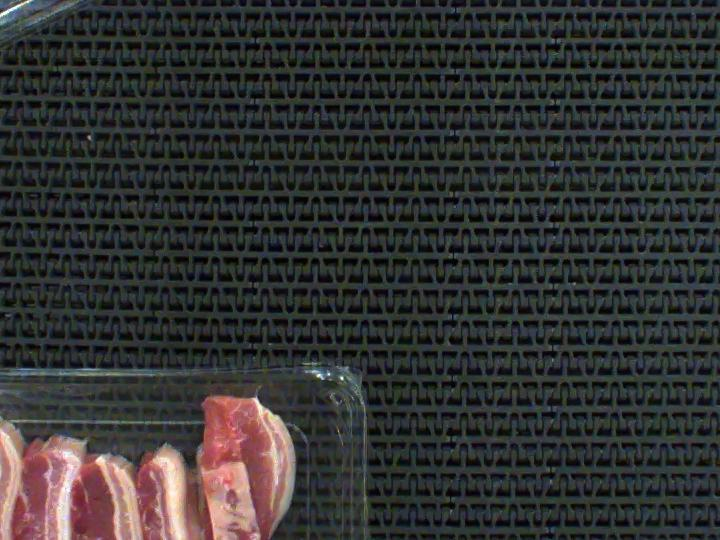twisted-meat: (181, 413, 298, 540)
